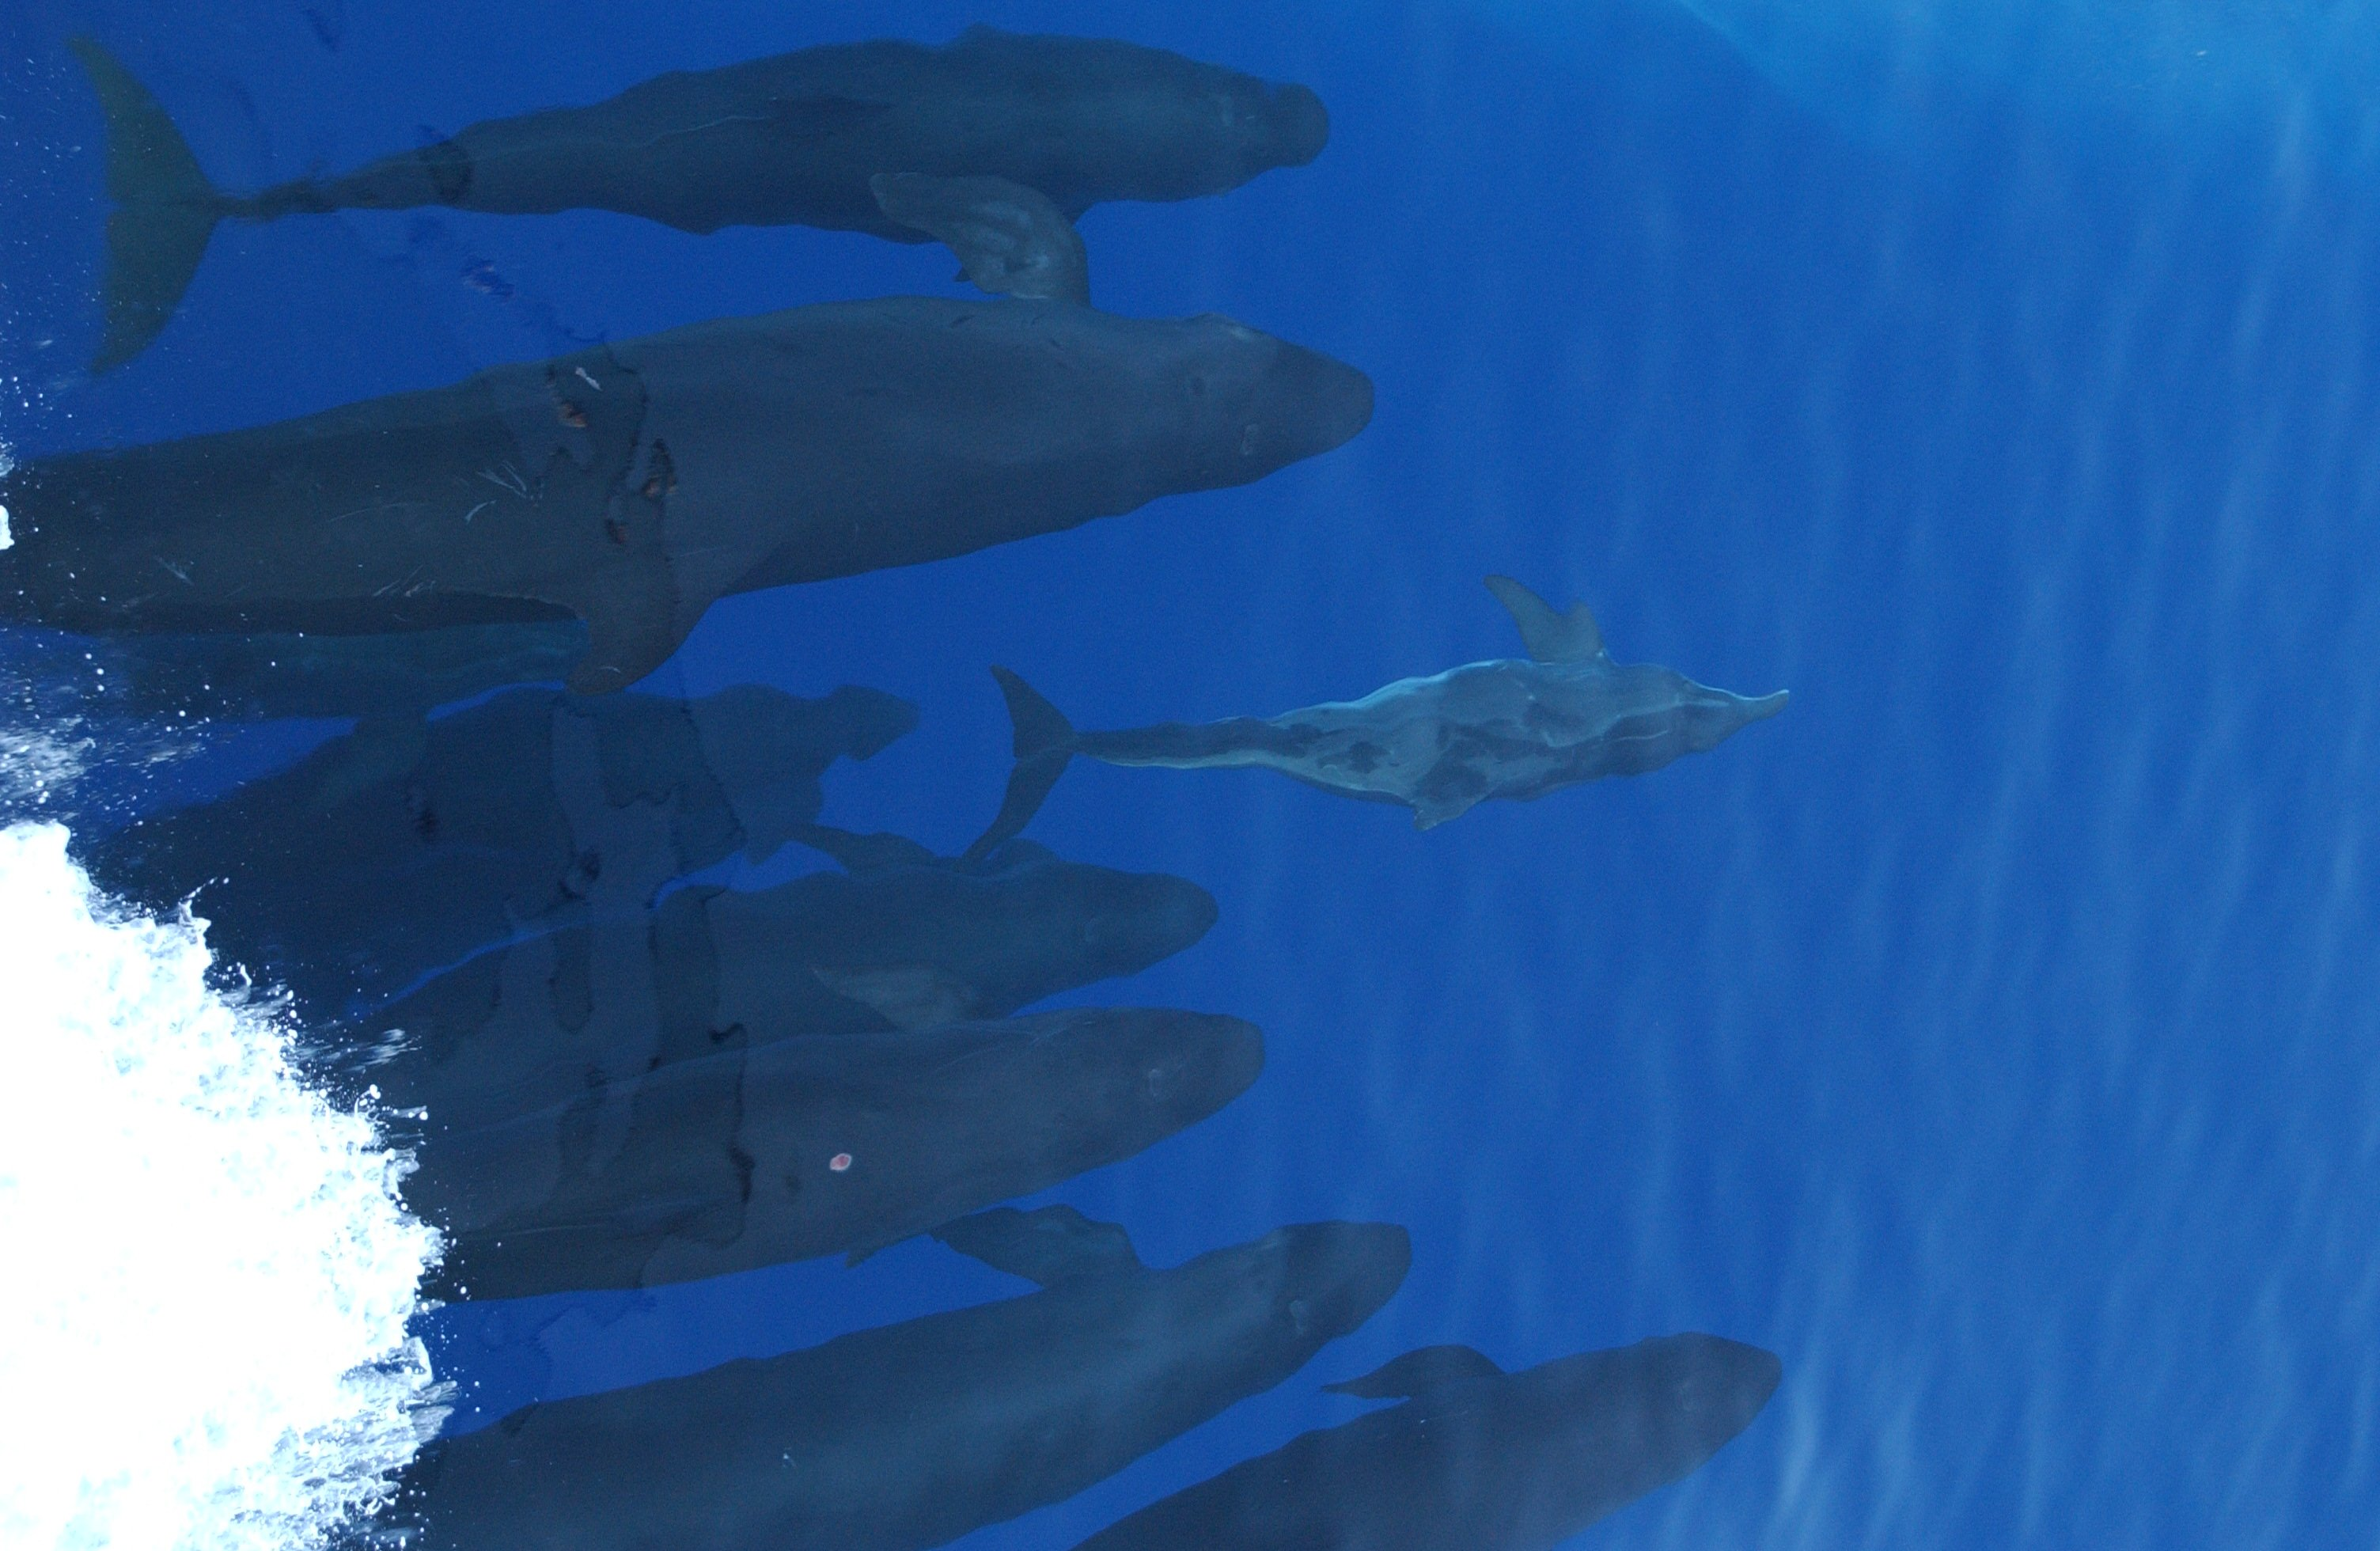dolphin: (0, 167, 1379, 632), (87, 26, 1332, 373), (343, 1207, 1403, 1551), (416, 956, 1263, 1301), (333, 826, 1223, 1119), (978, 564, 1795, 841), (222, 677, 916, 987), (1051, 1334, 1780, 1551)
